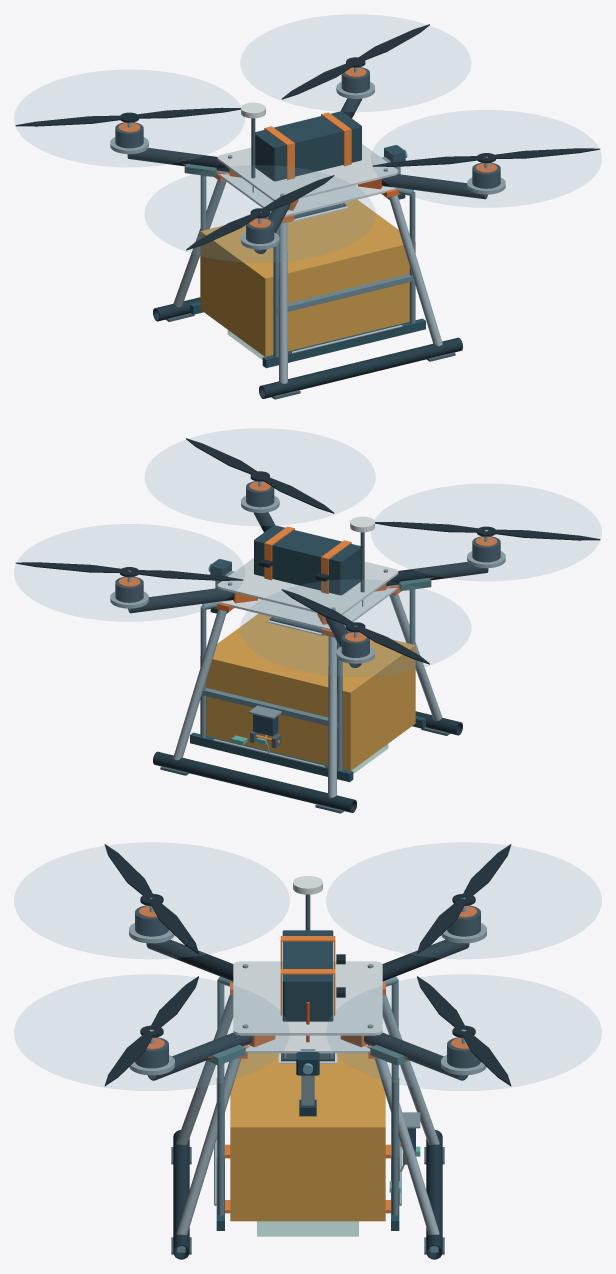
File: quad_delivery_vtol.glb
The picture shows the model from 3 angles, top to bottom: view 1: azimuth 30°, elevation 25°; view 2: azimuth 150°, elevation 25°; view 3: azimuth 270°, elevation 25°; orthographic projection. The views are drawn at different scales.
Parts seen in each view (by area): view 1: quad_delivery_vtol (×13); view 2: quad_delivery_vtol (×14); view 3: quad_delivery_vtol (×17).
Boxes of the visible parts, box(x1,y1,x2,y2) form: quad_delivery_vtol (×13): box(14, 15, 601, 398); quad_delivery_vtol (×14): box(14, 429, 601, 813); quad_delivery_vtol (×17): box(14, 843, 601, 1259).
Bounding box in the file's own units: 0.866 × 0.468 × 0.866.
